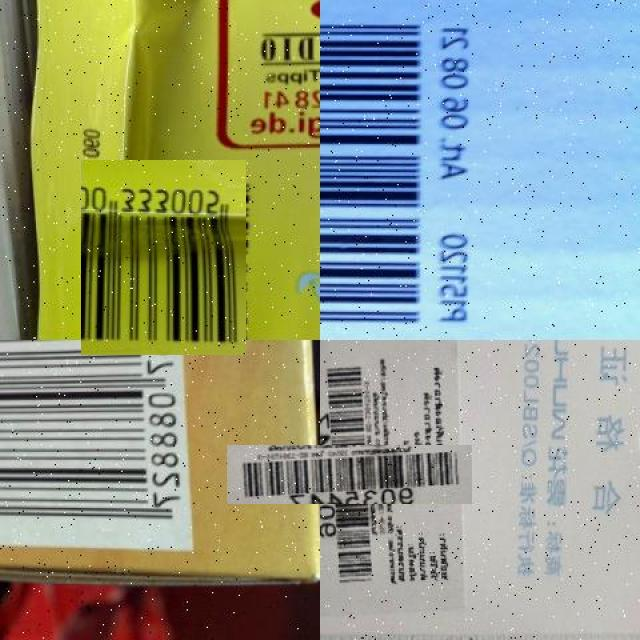Barcode: (0, 340, 193, 552), (320, 0, 432, 340), (73, 167, 254, 348), (273, 398, 426, 550)
